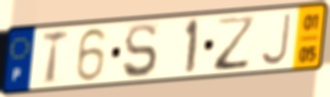1: (181, 17, 200, 77)
6: (74, 25, 110, 84)
J: (258, 11, 293, 68)
S: (121, 21, 159, 80)
T: (40, 28, 72, 87)
Z: (213, 14, 258, 74)
